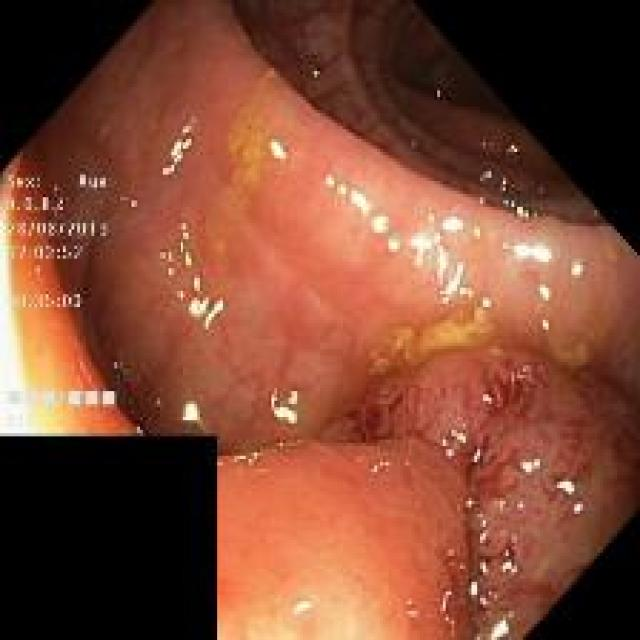Polyps: (322, 351, 640, 639)
